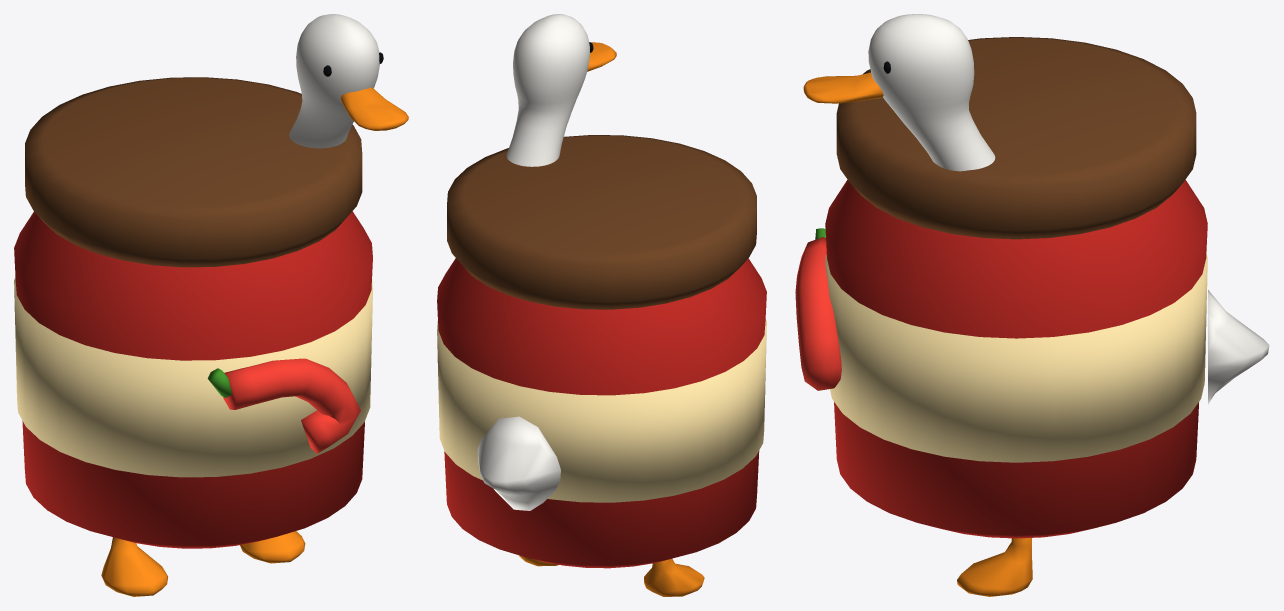
File: duck-chilisauce.glb
The picture shows the model from 3 angles, left to right: view 1: azimuth 30°, elevation 25°; view 2: azimuth 150°, elevation 25°; view 3: azimuth 270°, elevation 25°; orthographic projection. The views are drawn at different scales.
Parts seen in each view (by area): view 1: duck-chilisauce; view 2: duck-chilisauce; view 3: duck-chilisauce.
Boxes of the visible parts, left/top/right/bottom form: duck-chilisauce: left=14, top=14, right=408, bottom=596; duck-chilisauce: left=437, top=14, right=766, bottom=596; duck-chilisauce: left=795, top=14, right=1269, bottom=596.
Bounding box in the file's own units: 0.5903 × 1 × 0.7316.
1 material, 1 textured.
